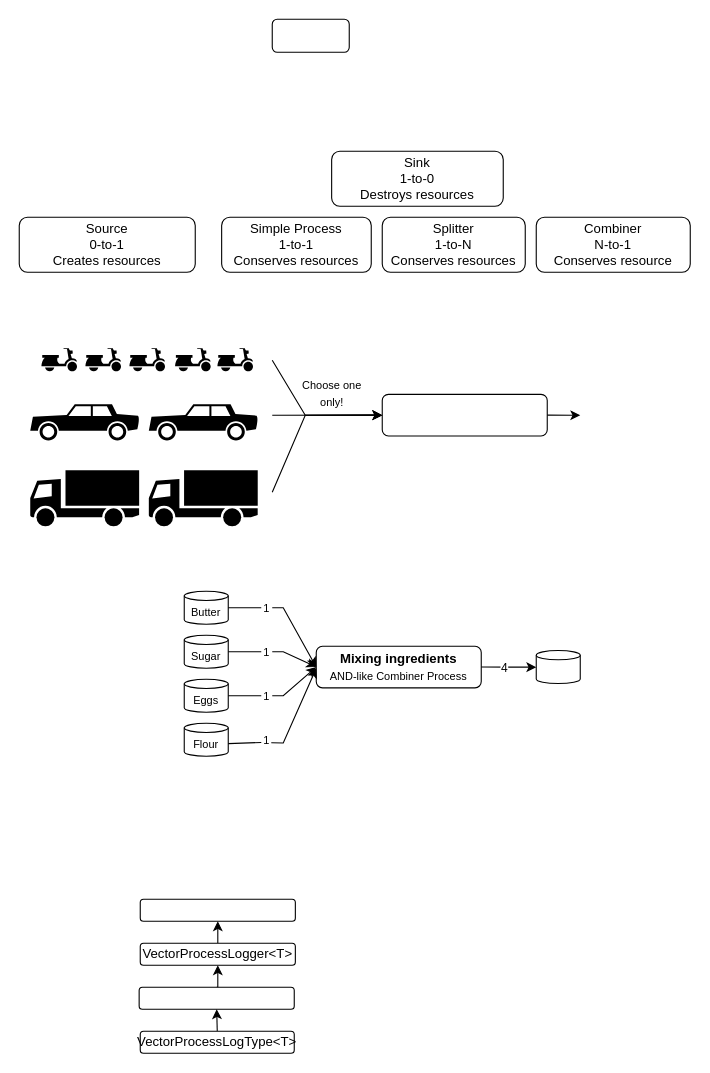
This 710x1073 diagram has some shape labels left out. The centre of each missing label's shape, as x and y in pixels:
"Batter" goes at point 557,666.
"ComponentLogger" goes at point 217,909.
"Process" goes at point 310,35.
"Selecting a vehicle XOR-like Combiner Process" goes at point 464,414.
"VectorProcessLog<T>" goes at point 216,997.
